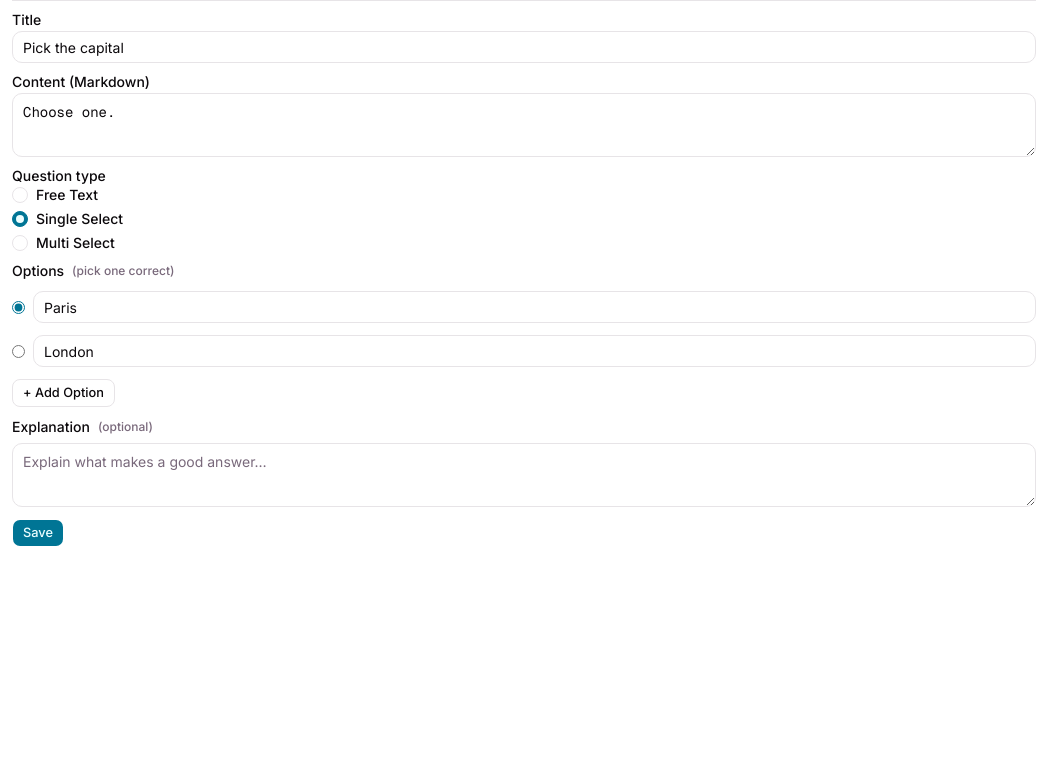
Test case: Feature: Pool question edit panel (Step 30) › shows and edits a single_select pool question's options, preserving the kept option's id
Check: the 1st field showing "Paris" is shown, box 33,291 -> 1036,323
Check: the 2nd field showing "London" is shown, box 33,335 -> 1036,367
Click the button "Save": (38, 533) 12,519 -> 64,547
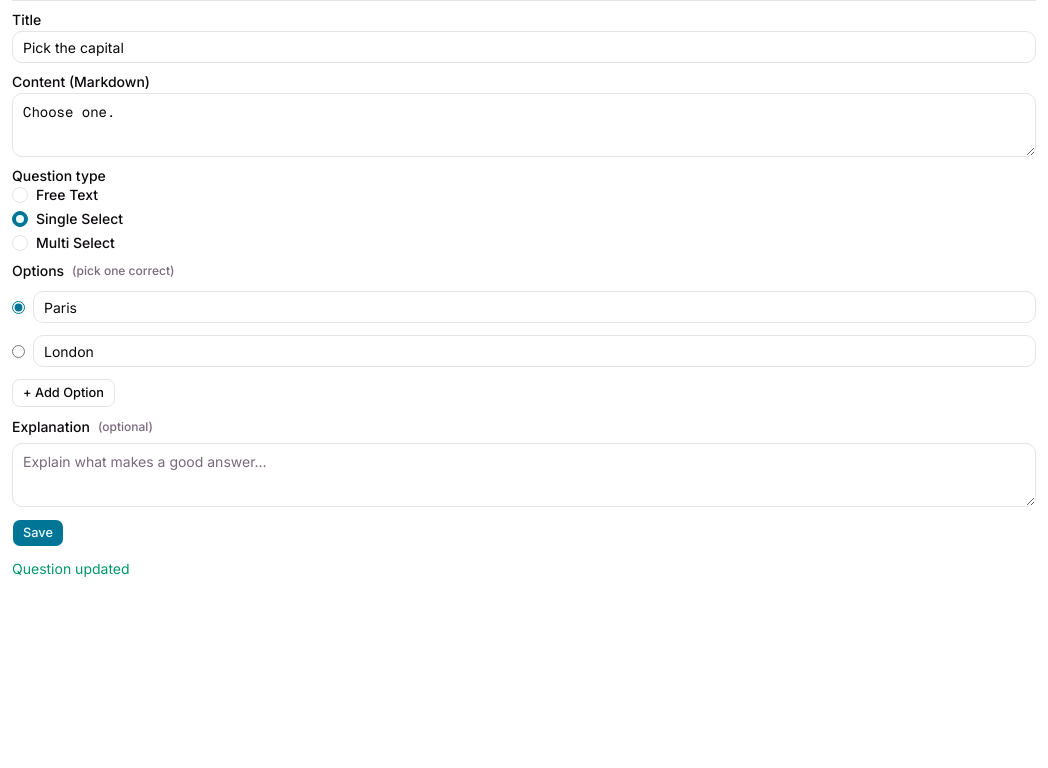
Check: the text "Question updated" is shown, box 12,560 -> 130,577
